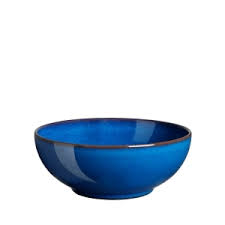bowl: (30, 115, 196, 203)
